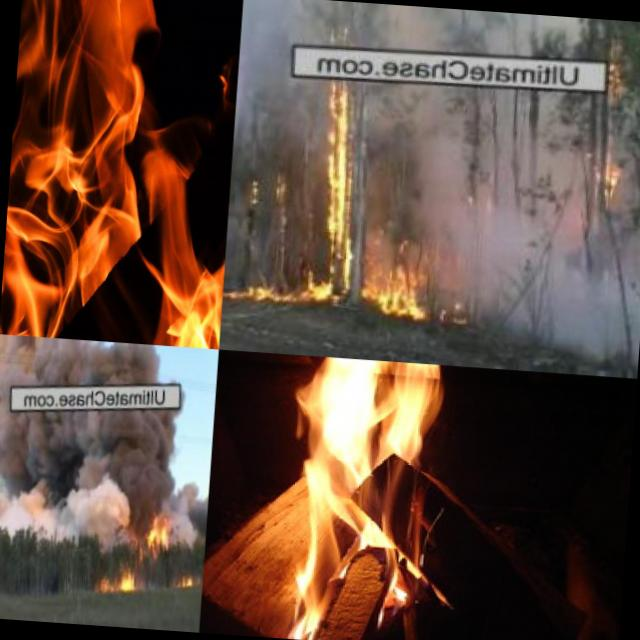fire: (0, 0, 243, 349), (270, 355, 474, 640), (308, 82, 371, 298), (378, 239, 444, 315), (227, 259, 311, 304), (92, 560, 139, 600), (139, 514, 173, 556), (173, 566, 200, 598)
smoke: (425, 140, 640, 337), (0, 398, 157, 549), (150, 478, 208, 520), (153, 410, 180, 480), (170, 517, 200, 551)
